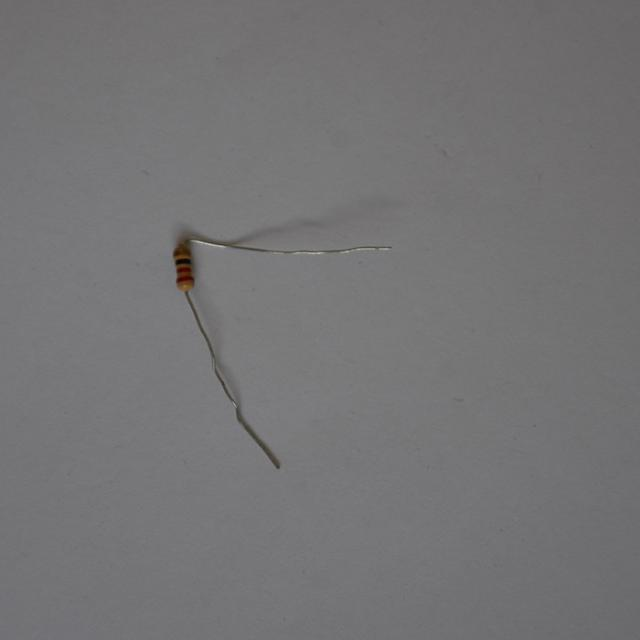black: (176, 258, 191, 264)
gold: (174, 250, 189, 255)
red: (176, 276, 192, 283), (177, 266, 191, 272)
resistor: (171, 245, 199, 297)
